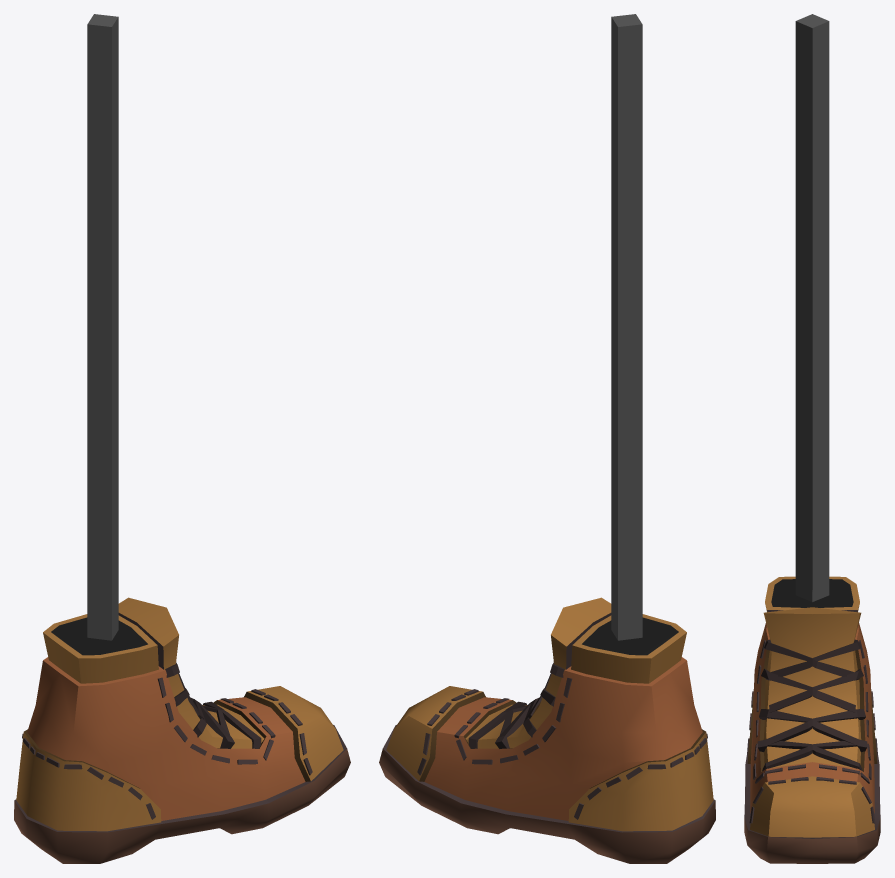
The model's file is Giant Shoe.fbx.
3 renders of one model, left to right at view 1: azimuth 30°, elevation 25°; view 2: azimuth 150°, elevation 25°; view 3: azimuth 270°, elevation 25°, orthographic. The views are drawn at different scales.
Parts seen in each view (by area): view 1: Giant Shoe; view 2: Giant Shoe; view 3: Giant Shoe.
Part boxes in pixels (x1,y1,x2,y2): Giant Shoe: [14, 14, 350, 863]; Giant Shoe: [379, 14, 715, 863]; Giant Shoe: [744, 14, 880, 863].
Size of the model in its own units: 4.31 by 10.9 by 1.75.
